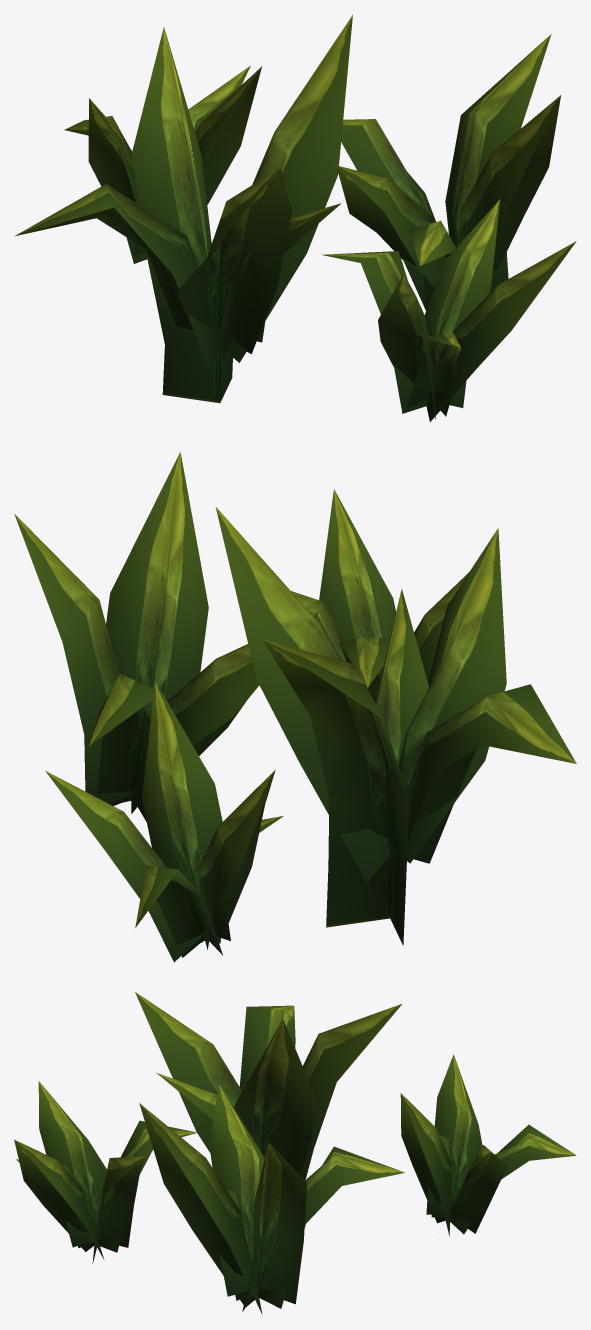
File: grass_05.fbx
3 renders of one model, top to bottom at view 1: azimuth 30°, elevation 25°; view 2: azimuth 150°, elevation 25°; view 3: azimuth 270°, elevation 25°, orthographic. The views are drawn at different scales.
Parts seen in each view (by area): view 1: polySurface121, polySurface120, polySurface122, polySurface119; view 2: polySurface121, polySurface120, polySurface119, polySurface122; view 3: polySurface120, polySurface121, polySurface122, polySurface119.
Boxes of the visible parts, box(x1,y1,x2,y2) form: polySurface121: box(14, 15, 352, 403); polySurface120: box(336, 34, 560, 310); polySurface122: box(321, 199, 576, 421); polySurface119: box(64, 65, 261, 263); polySurface121: box(215, 506, 576, 945); polySurface120: box(14, 451, 320, 821); polySurface119: box(45, 681, 283, 962); polySurface122: box(291, 489, 468, 701); polySurface120: box(139, 1085, 404, 1314); polySurface121: box(135, 992, 402, 1179); polySurface122: box(14, 1081, 197, 1263); polySurface119: box(400, 1054, 576, 1236).
Bounding box in the file's own units: 1.66 × 1.05 × 1.9.
